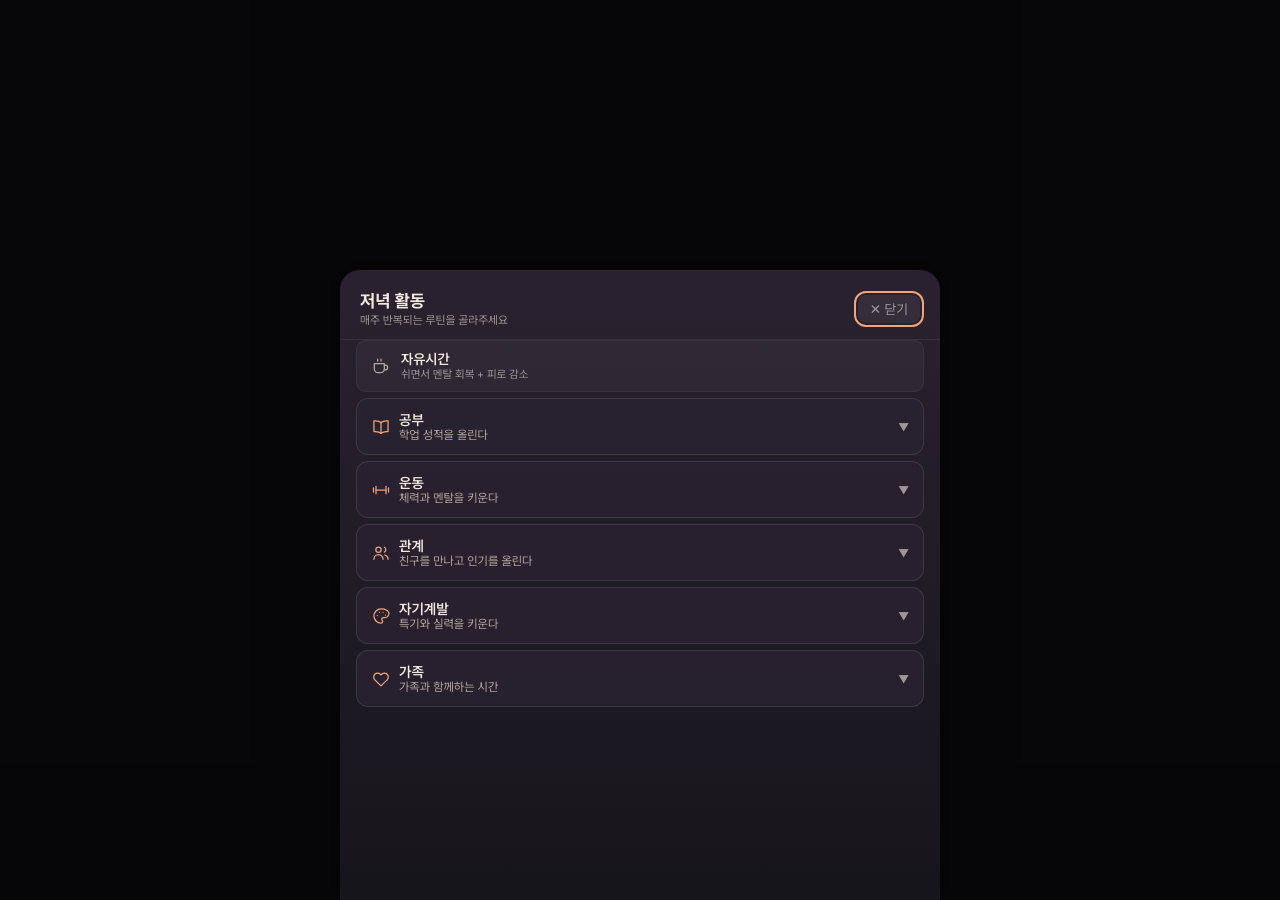
Test: SlotEditPopup routine 목록 필터 › routine2에서는 state.routineSlot2와 같은 id가 목록에서 제외된다
The width and height of the screenshot is (1280, 900).
What coordinates should you click on to do the following:
click the button "공부 학업 성적을 올린다 ▼"
I would click on:
 (444, 435)
Its box is [357,399,923,454].
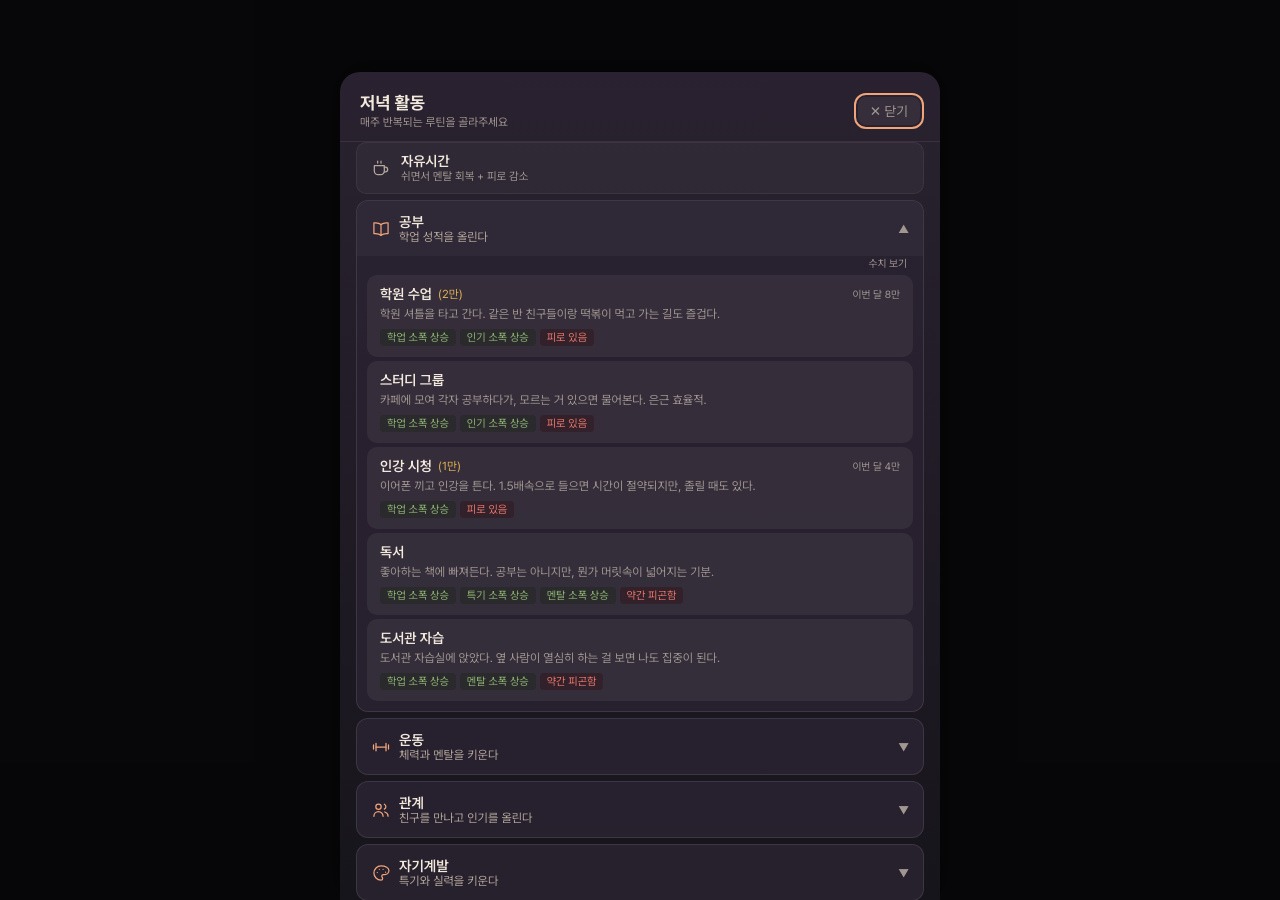
Expected: the button that starts with "학원 수업" is shown, [367,275,913,357]
